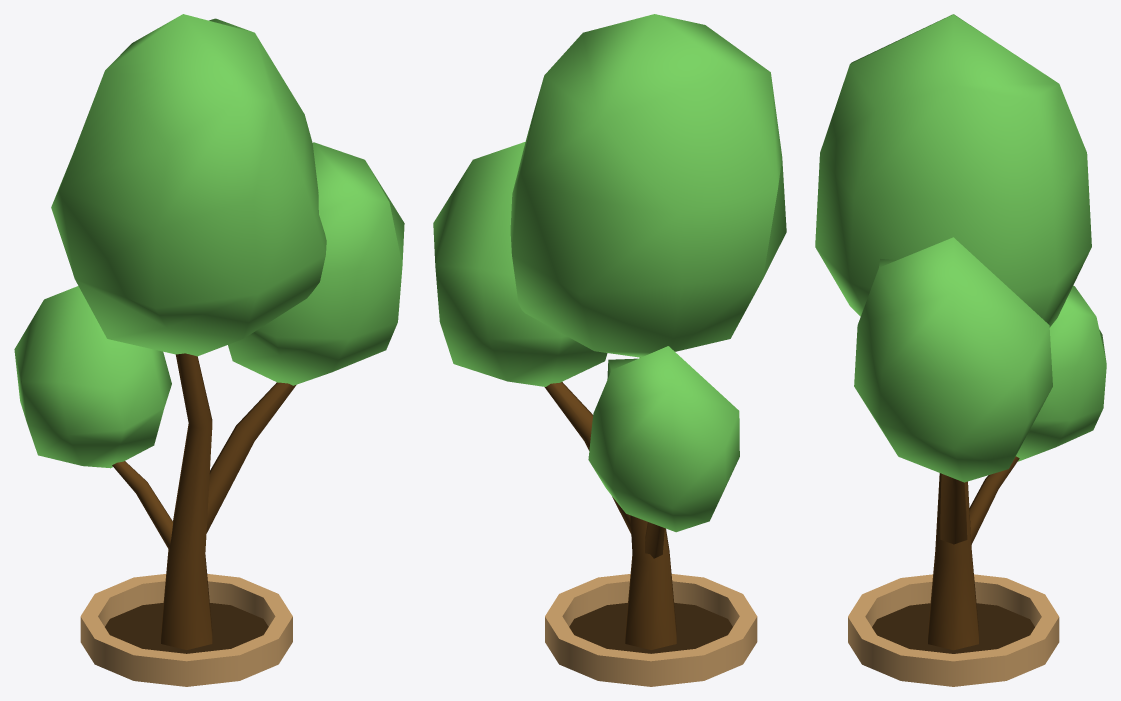
The model's file is trees_3.fbx.
3 renders of one model, left to right at view 1: azimuth 30°, elevation 25°; view 2: azimuth 150°, elevation 25°; view 3: azimuth 270°, elevation 25°, orthographic.
Visible parts, largest first — view 1: trees_3; view 2: trees_3; view 3: trees_3.
Part boxes in pixels (x1,y1,x2,y2): trees_3: [14, 14, 404, 686]; trees_3: [433, 14, 786, 686]; trees_3: [815, 14, 1106, 686].
Size of the model in its own units: 198 by 345 by 146.
1 material, 1 textured.
